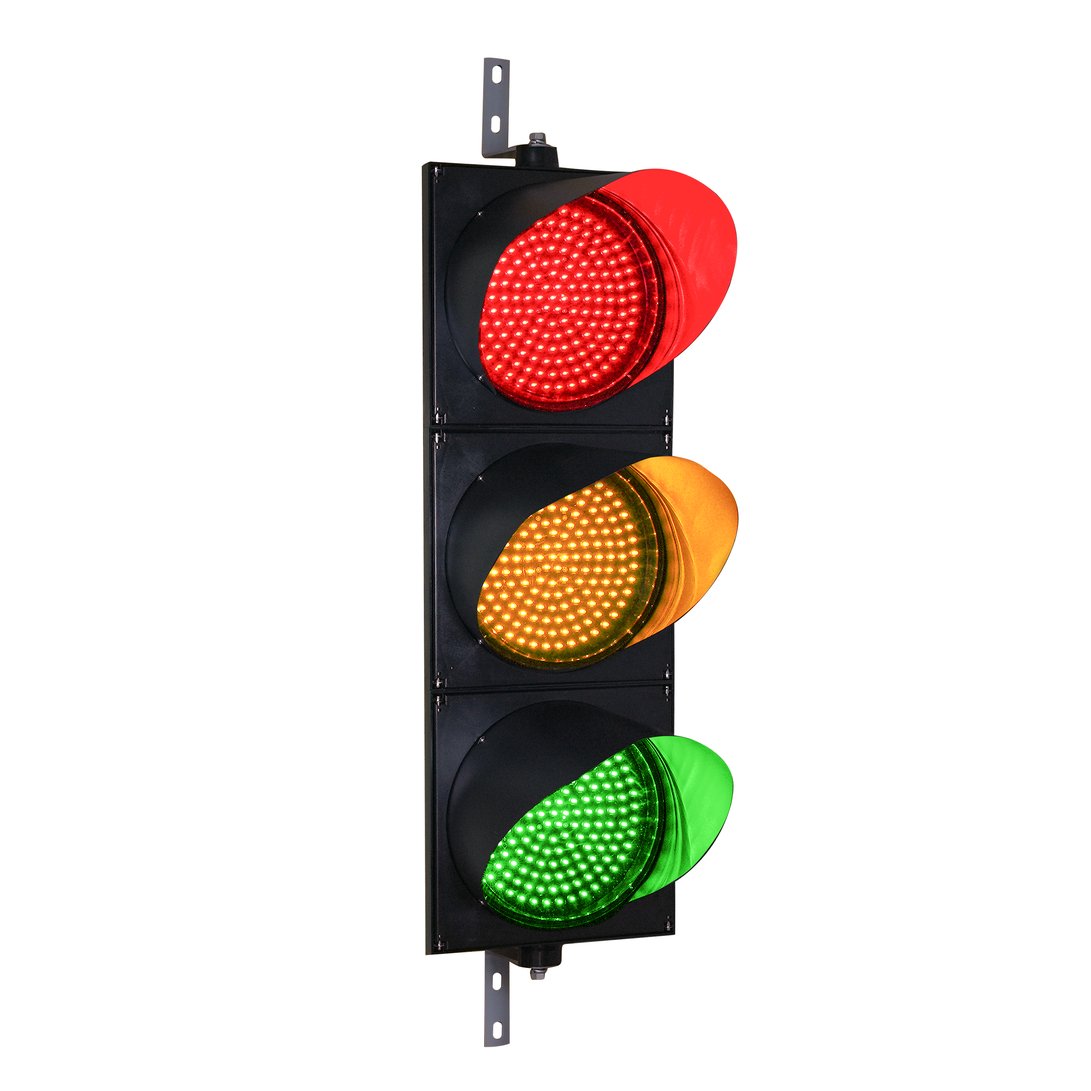TraficLight: (373, 38, 734, 1054)
